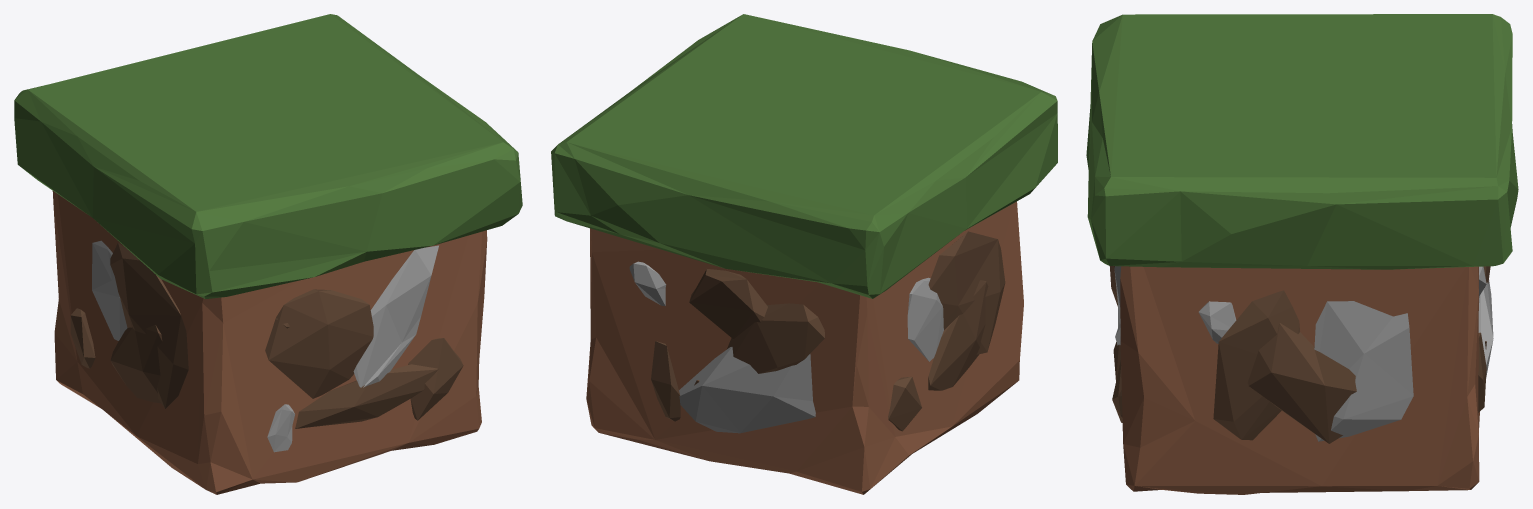
The model's file is TileTest.fbx.
3 renders of one model, left to right at view 1: azimuth 30°, elevation 25°; view 2: azimuth 150°, elevation 25°; view 3: azimuth 270°, elevation 25°, orthographic. The views are drawn at different scales.
Visible parts, largest first — view 1: Tile, Rocks1, Rocks3, Rocks2; view 2: Tile, Rocks3, Rocks1, Rocks2; view 3: Tile, Rocks3, Rocks1, Rocks2.
Boxes of the visible parts, left/top/right/bottom form: Tile: left=14, top=14, right=522, bottom=494; Rocks1: left=70, top=243, right=463, bottom=420; Rocks3: left=92, top=240, right=438, bottom=452; Rocks2: left=110, top=318, right=437, bottom=428; Tile: left=551, top=14, right=1057, bottom=494; Rocks3: left=629, top=261, right=943, bottom=433; Rocks1: left=689, top=231, right=1005, bottom=431; Rocks2: left=651, top=280, right=988, bottom=421; Tile: left=1086, top=14, right=1518, bottom=494; Rocks3: left=1114, top=266, right=1493, bottom=441; Rocks1: left=1109, top=266, right=1486, bottom=443; Rocks2: left=1113, top=266, right=1490, bottom=440.
Bounding box in the file's own units: 2.42 × 2.03 × 2.43.
